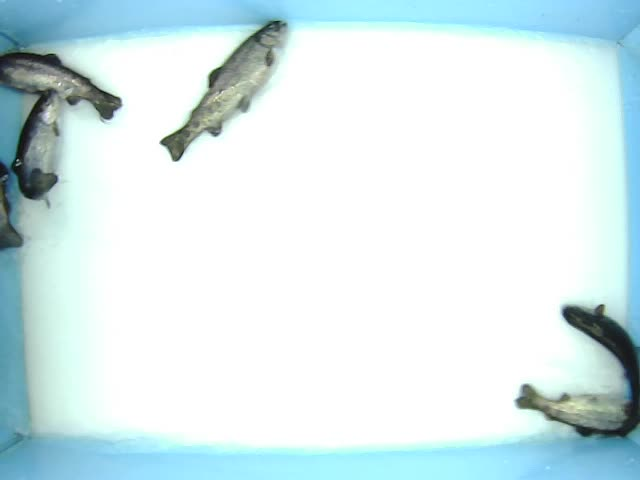fish: (156, 20, 286, 164), (558, 298, 640, 446), (1, 49, 123, 123), (9, 84, 66, 210)
